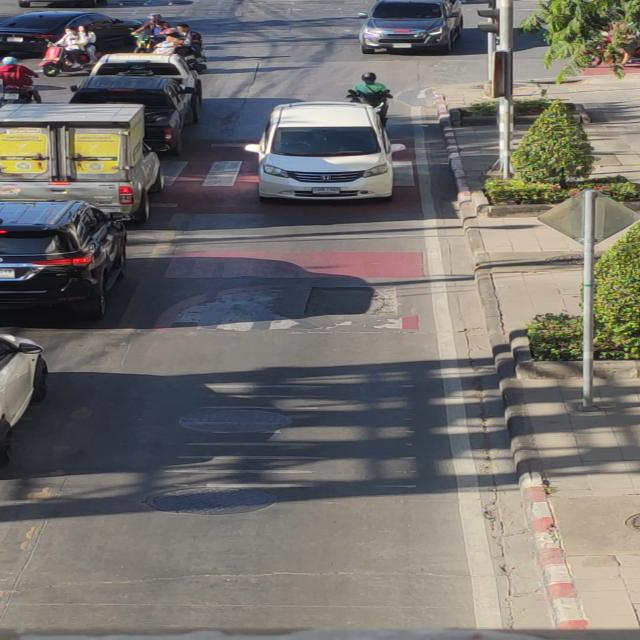car: (238, 94, 412, 208)
